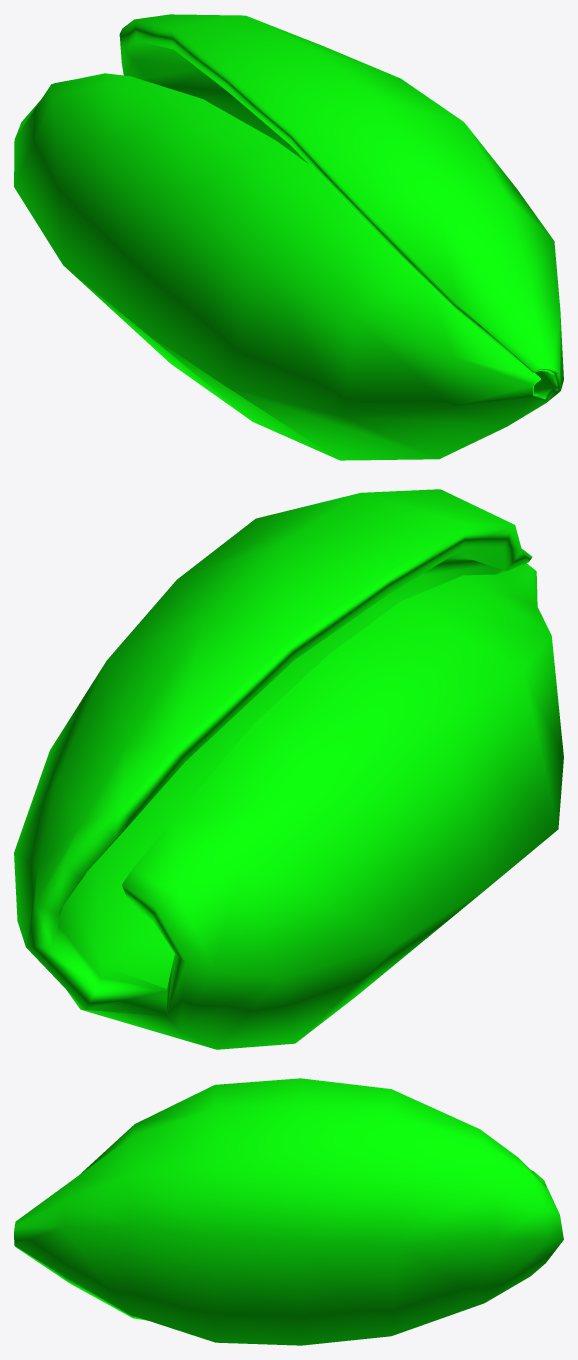
File: Shell_9.fbx
3 renders of one model, top to bottom at view 1: azimuth 30°, elevation 25°; view 2: azimuth 150°, elevation 25°; view 3: azimuth 270°, elevation 25°, orthographic. The views are drawn at different scales.
Parts seen in each view (by area): view 1: Shell_9; view 2: Shell_9; view 3: Shell_9.
Part boxes in pixels (x1,y1,x2,y2): Shell_9: [14, 14, 563, 460]; Shell_9: [14, 489, 563, 1049]; Shell_9: [14, 1078, 563, 1345].
Size of the model in its own units: 84.01 by 91.52 by 191.
